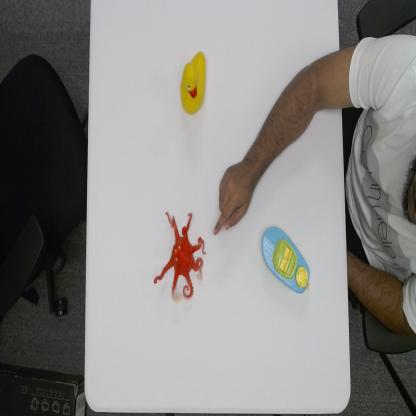Arm: (257, 42, 336, 187)
Boat: (260, 223, 311, 295)
Duck: (178, 50, 208, 114)
Hand: (214, 160, 255, 235)
Octopus: (153, 209, 207, 306)
